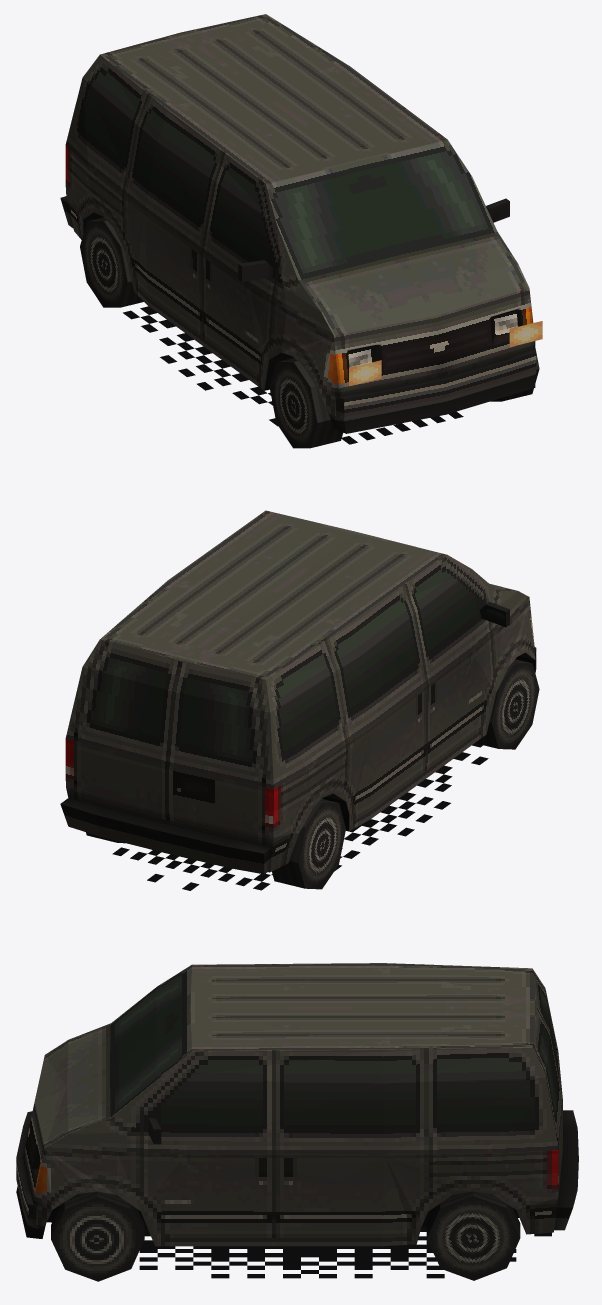
File: van_grey.glb
The picture shows the model from 3 angles, top to bottom: view 1: azimuth 30°, elevation 25°; view 2: azimuth 150°, elevation 25°; view 3: azimuth 270°, elevation 25°; orthographic projection.
Parts seen in each view (by area): view 1: Body, BlobShadow, Headlight_1, Headlight_-1; view 2: Body, BlobShadow; view 3: Body, BlobShadow.
Part boxes in pixels (x1=…): Body: x1=60, y1=14, x2=539, y2=448; BlobShadow: x1=123, y1=306, x2=463, y2=444; Headlight_1: x1=509, y1=321, x2=542, y2=346; Headlight_-1: x1=349, y1=360, x2=381, y2=386; Body: x1=60, y1=510, x2=539, y2=889; BlobShadow: x1=112, y1=743, x2=488, y2=890; Body: x1=16, y1=963, x2=578, y2=1281; BlobShadow: x1=139, y1=1226, x2=551, y2=1278.
Size of what is drawn, in the model's own units: 2.57 by 1.97 by 4.63.
3 materials, 3 textured.
